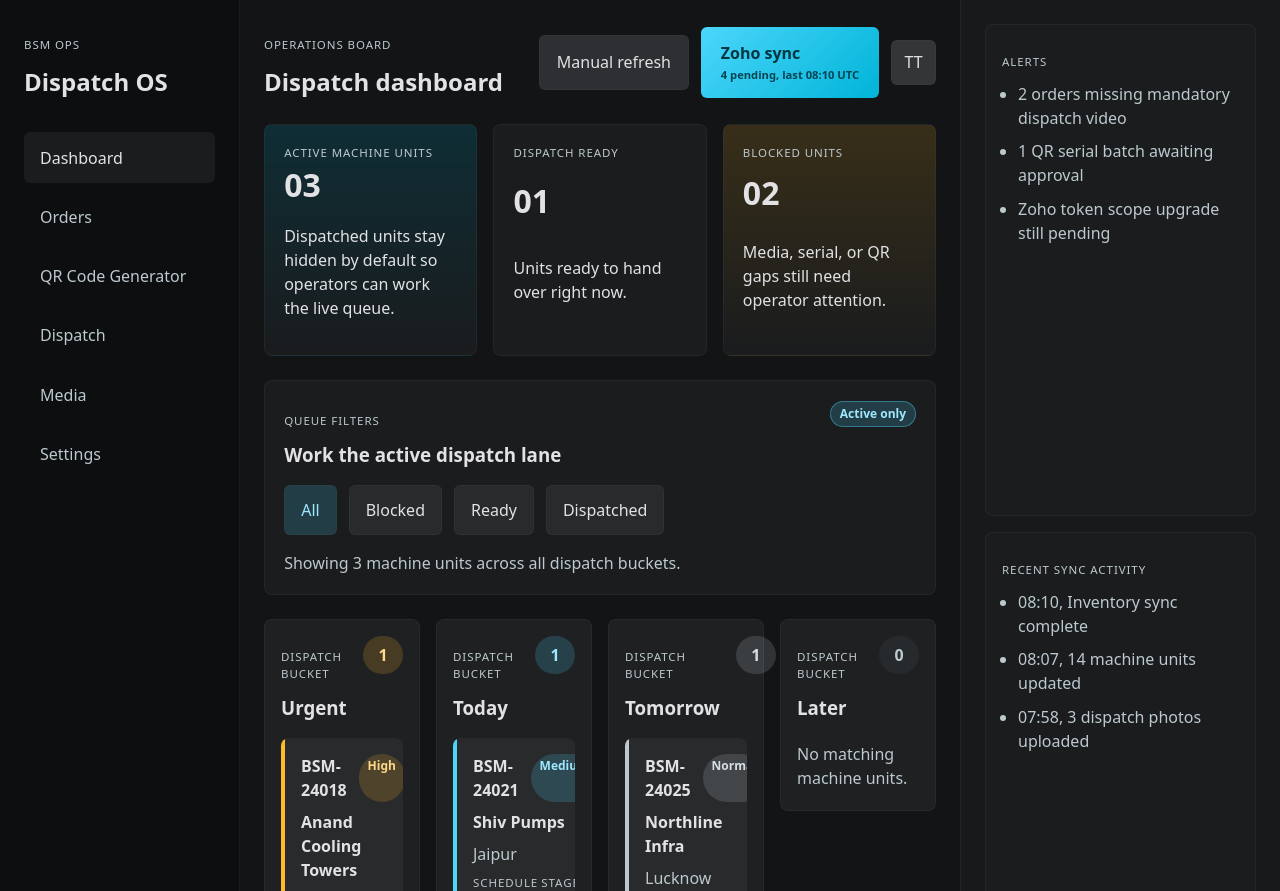
Test case: dashboard detail flow › filters the dashboard by blocked and ready units
Expected: the text "BSM-24018" is shown, [301,754,347,802]
Click the button "Blocked": (395, 510) [349,485,442,535]
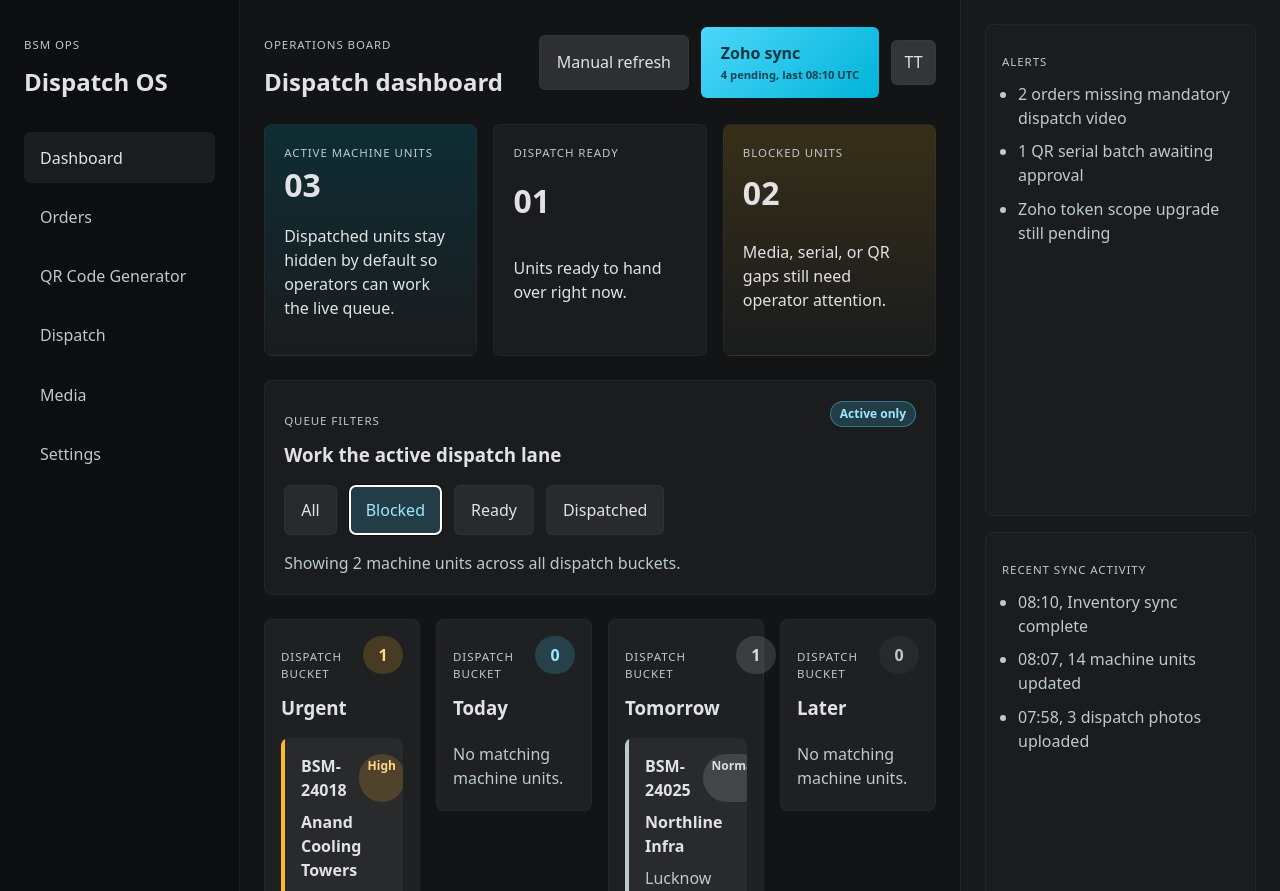
Expected: the text "BSM-24018" is shown, [301,754,347,802]
Expected: the link "BSM-24021" is gone
Click the button "Ready": (494, 510) [454,485,534,535]
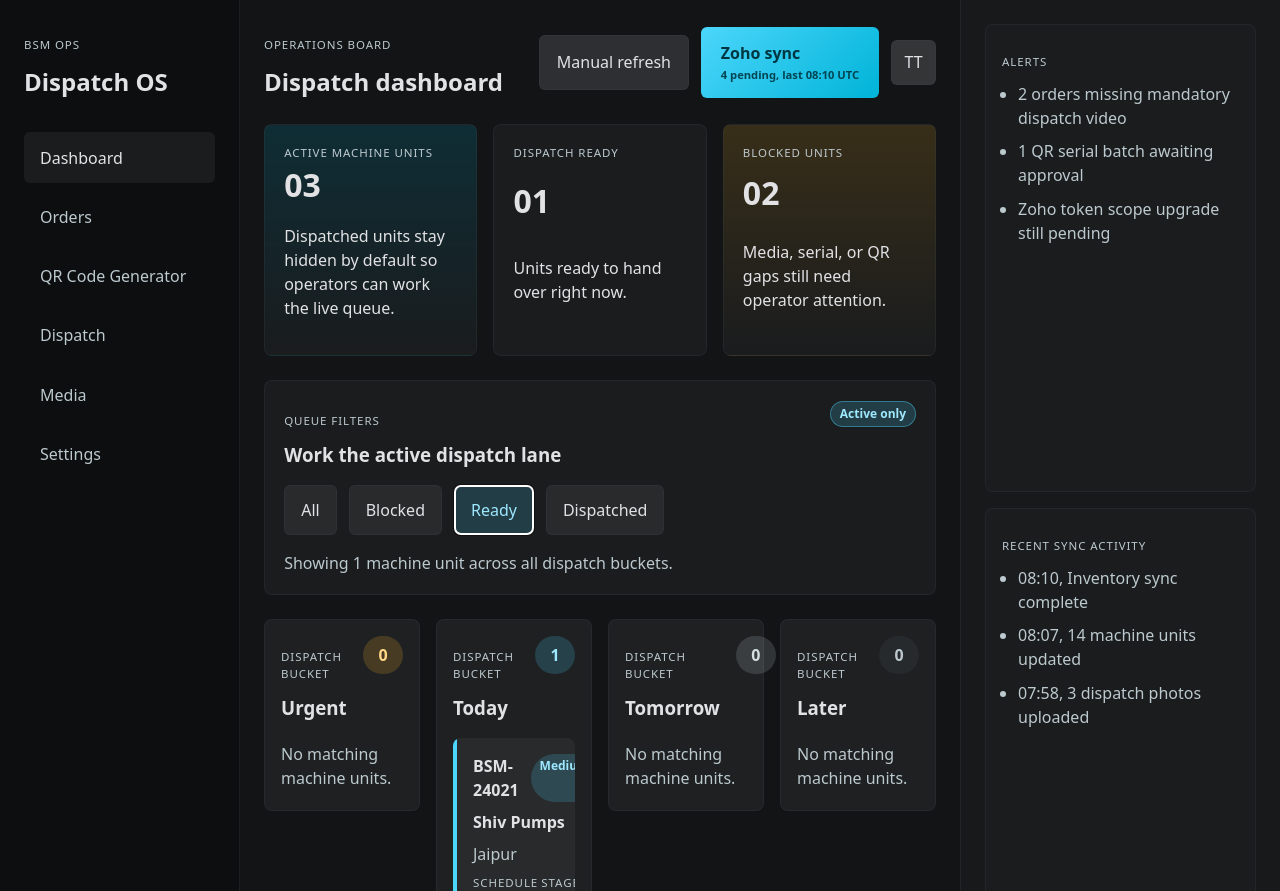
Expected: the text "BSM-24021" is shown, [473,754,519,802]
Expected: the link "BSM-24018" is gone
